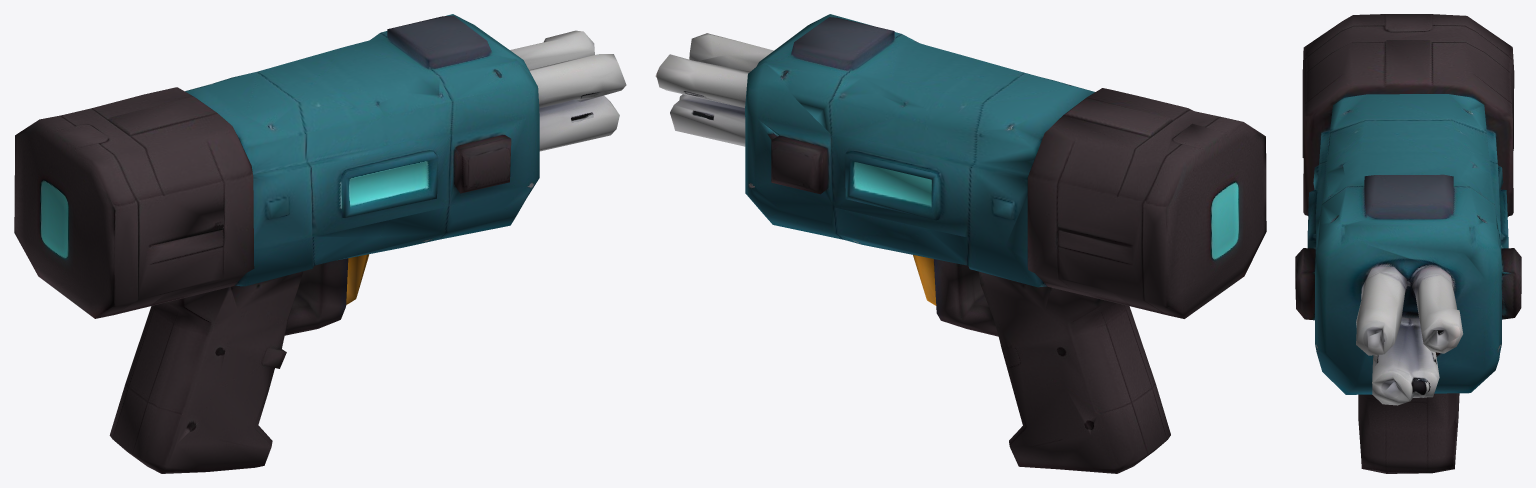
Rendered from weapon_taser_1500.glb.
The picture shows the model from 3 angles, left to right: view 1: azimuth 30°, elevation 25°; view 2: azimuth 150°, elevation 25°; view 3: azimuth 270°, elevation 25°; orthographic projection. The views are drawn at different scales.
Visible parts, largest first — view 1: tripo_node_6639bea0-88e7-4e54-bfd6-0be7450d9f52; view 2: tripo_node_6639bea0-88e7-4e54-bfd6-0be7450d9f52; view 3: tripo_node_6639bea0-88e7-4e54-bfd6-0be7450d9f52.
Boxes of the visible parts, x1,y1,x2,y2 form: tripo_node_6639bea0-88e7-4e54-bfd6-0be7450d9f52: [14, 14, 626, 473]; tripo_node_6639bea0-88e7-4e54-bfd6-0be7450d9f52: [655, 14, 1266, 473]; tripo_node_6639bea0-88e7-4e54-bfd6-0be7450d9f52: [1295, 14, 1521, 473].
Bounding box in the file's own units: 0.9778 × 0.627 × 0.3353.
1 material, 1 textured.
